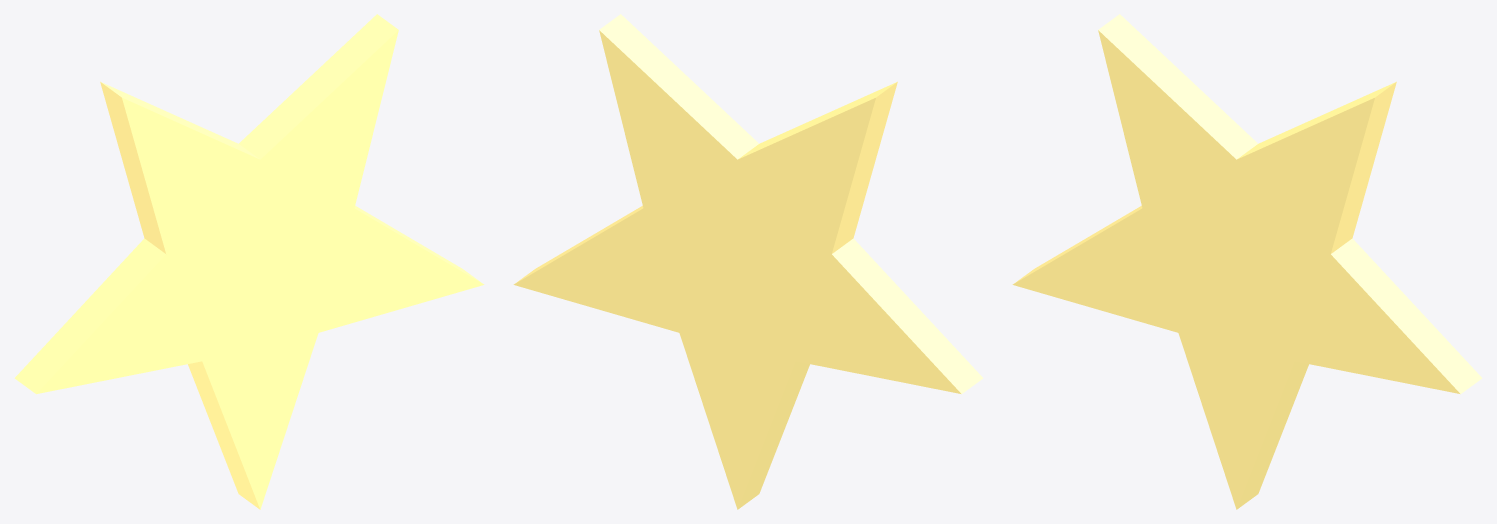
The picture shows the model from 3 angles, left to right: view 1: azimuth 30°, elevation 25°; view 2: azimuth 150°, elevation 25°; view 3: azimuth 330°, elevation 25°; orthographic projection.
Bounding box in the file's own units: 0.9511 × 0.9045 × 0.08.
